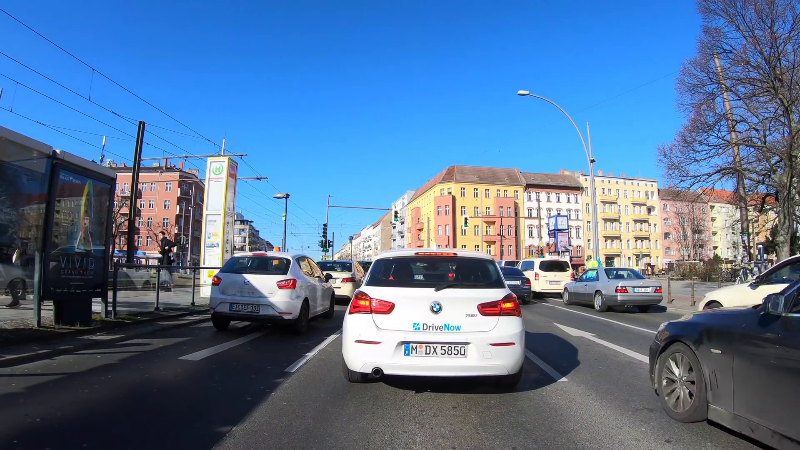Plate: (402, 341, 469, 358), (228, 300, 263, 314), (631, 286, 651, 294), (326, 277, 340, 284), (506, 279, 521, 285), (546, 280, 562, 284)
